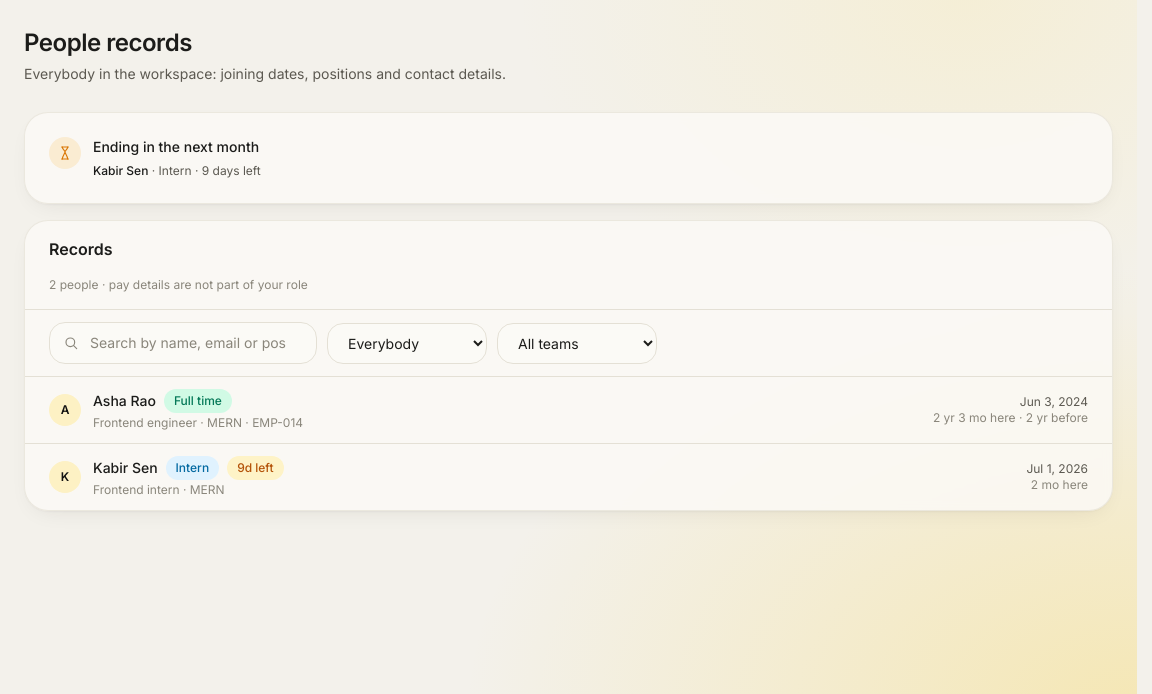
Test: editing a record › has no internship window on a permanent hire
Click the button "Asha Rao" at (65, 410), box [25,377,1112,443]
(page scrolled)
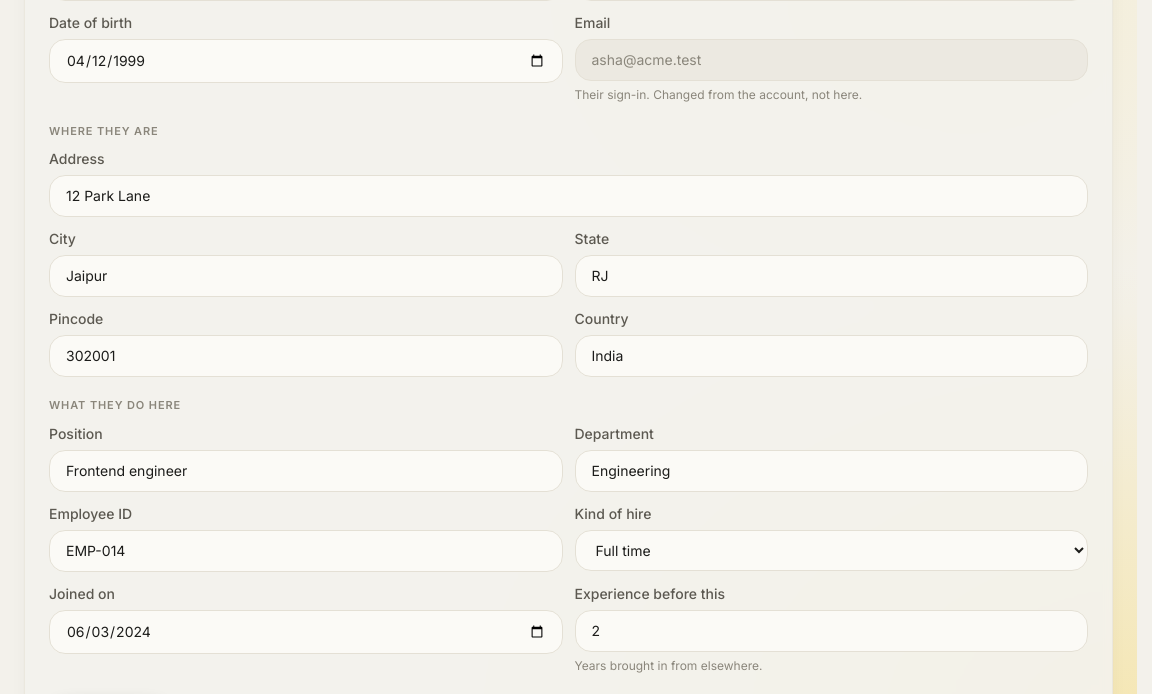
Result: the field labelled "Pincode" holds "302001" at [49,335,562,377]
